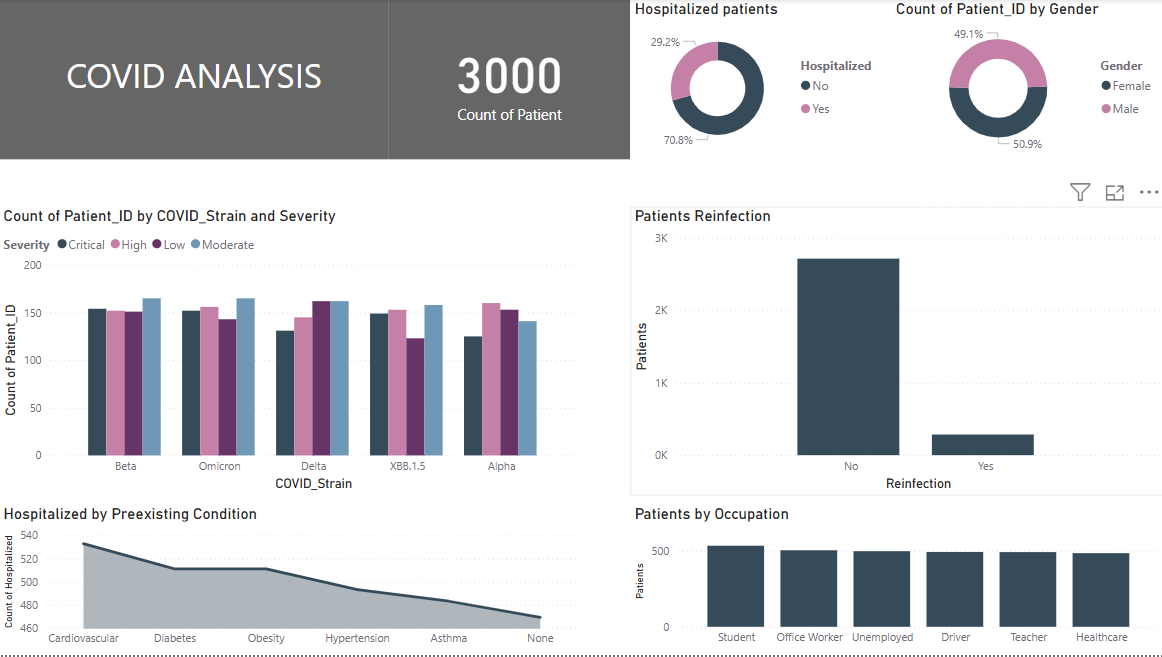

The page's visual inventory and layout, read from the dashboard file:
{"tool":"powerbi","page":{"name":"Page 1","canvas":[1280,720],"ordinal":0},"visuals":[{"type":"card","fields":{"Values":["CountNonNull(covid_related_disease_data.Patient_ID)"]},"box":[428.1,0,264.8,175.6],"z":0},{"type":"donutChart","title":" Hospitalized patients","fields":{"Category":["covid_related_disease_data.Hospitalized"],"Y":["CountNonNull(covid_related_disease_data.Patient_ID)"]},"box":[693,0,286.8,175.6],"z":1000},{"type":"donutChart","fields":{"Category":["covid_related_disease_data.Gender"],"Y":["CountNonNull(covid_related_disease_data.Patient_ID)"]},"box":[979.8,0,300.5,175.6],"z":2000},{"type":"textbox","box":[0,0,428.1,175.6],"z":3000},{"type":"clusteredColumnChart","fields":{"Category":["covid_related_disease_data.COVID_Strain"],"Series":["covid_related_disease_data.Severity"],"Y":["CountNonNull(covid_related_disease_data.Patient_ID)"]},"box":[0,227.8,639.5,317],"z":4000},{"type":"stackedAreaChart","title":" Hospitalized by Preexisting Condition","fields":{"Category":["covid_related_disease_data.Preexisting_Condition"],"Y":["CountNonNull(covid_related_disease_data.Hospitalized)"]},"box":[0,554.4,639.5,166],"z":5000},{"type":"columnChart","title":" Patients Reinfection","fields":{"Y":["CountNonNull(covid_related_disease_data.Patient_ID)"],"Category":["covid_related_disease_data.Reinfection"]},"box":[693,227.8,587.3,317],"z":6000},{"type":"clusteredColumnChart","fields":{"Category":["covid_related_disease_data.Occupation"],"Y":["CountNonNull(covid_related_disease_data.Patient_ID)"]},"box":[693,555,587,165],"z":7000}]}

Visuals, with their boxes in screenshot pixels (x1, y1, x2, y2), scaled from the page's 1280x720 canvas onto the 1162x657 screenshot:
card - CountNonNull(covid_related_disease_data.Patient_ID): 389,0,629,160
" Hospitalized patients" donutChart: 629,0,889,160
donutChart - covid_related_disease_data.Gender x CountNonNull(covid_related_disease_data.Patient_ID): 889,0,1161,160
textbox: 0,0,389,160
clusteredColumnChart - covid_related_disease_data.COVID_Strain x covid_related_disease_data.Severity: 0,208,581,497
" Hospitalized by Preexisting Condition" stackedAreaChart: 0,506,581,656
" Patients Reinfection" columnChart: 629,208,1161,497
clusteredColumnChart - covid_related_disease_data.Occupation x CountNonNull(covid_related_disease_data.Patient_ID): 629,506,1161,656
